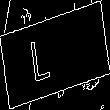L_N: (43, 27, 67, 83)
